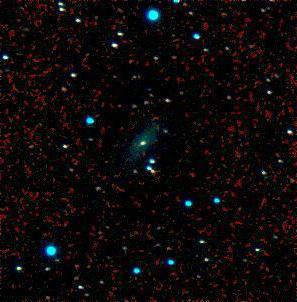star: (126, 157, 156, 187)
